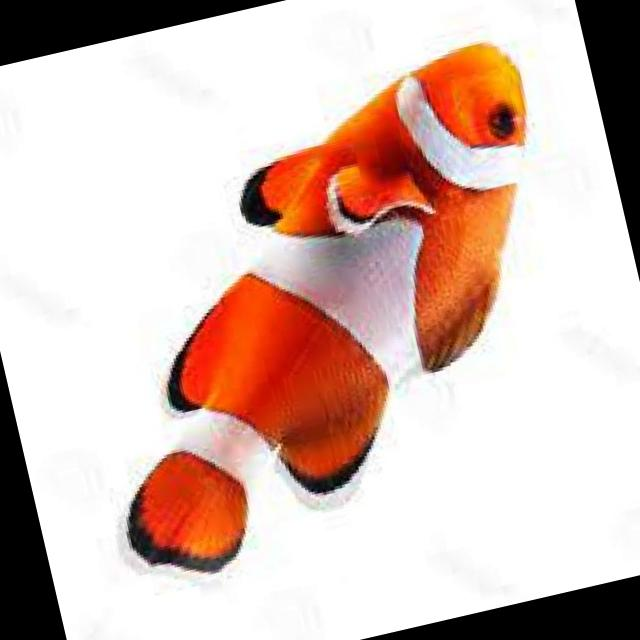ClownFish: (24, 26, 618, 590)
